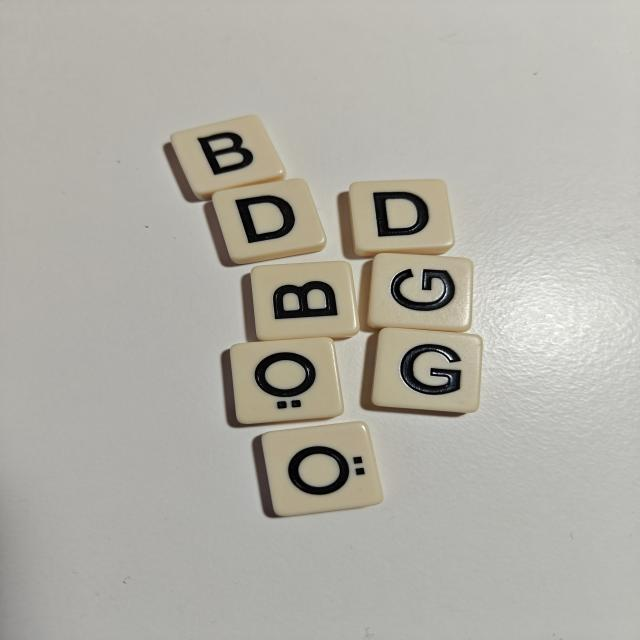b: (171, 116, 285, 200), (251, 261, 360, 340)
d: (213, 179, 326, 264), (349, 179, 454, 256)
g: (372, 328, 482, 413), (368, 253, 473, 332)
o_dot: (261, 422, 383, 516), (230, 337, 344, 424)
